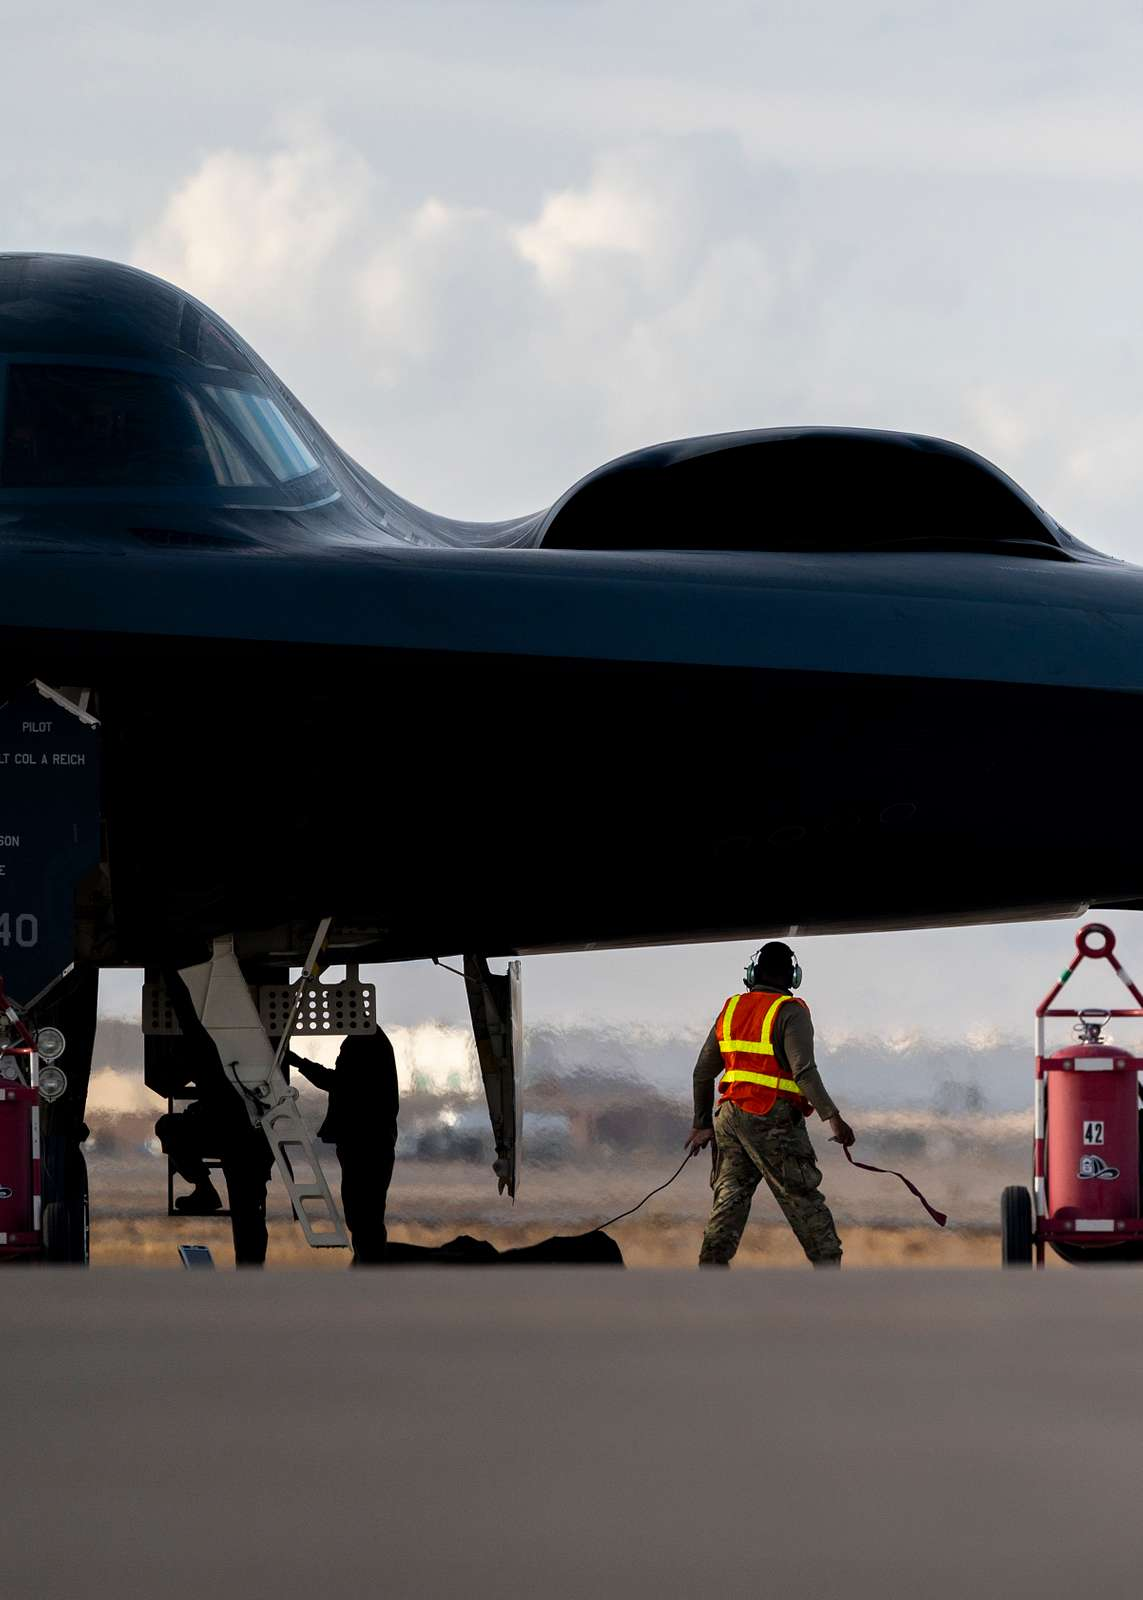B2: (1, 251, 1143, 1270)
